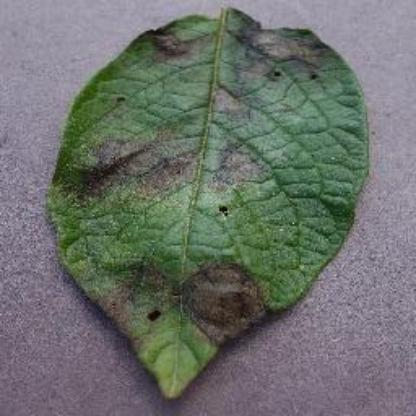Late-Blight: (47, 6, 377, 404)
